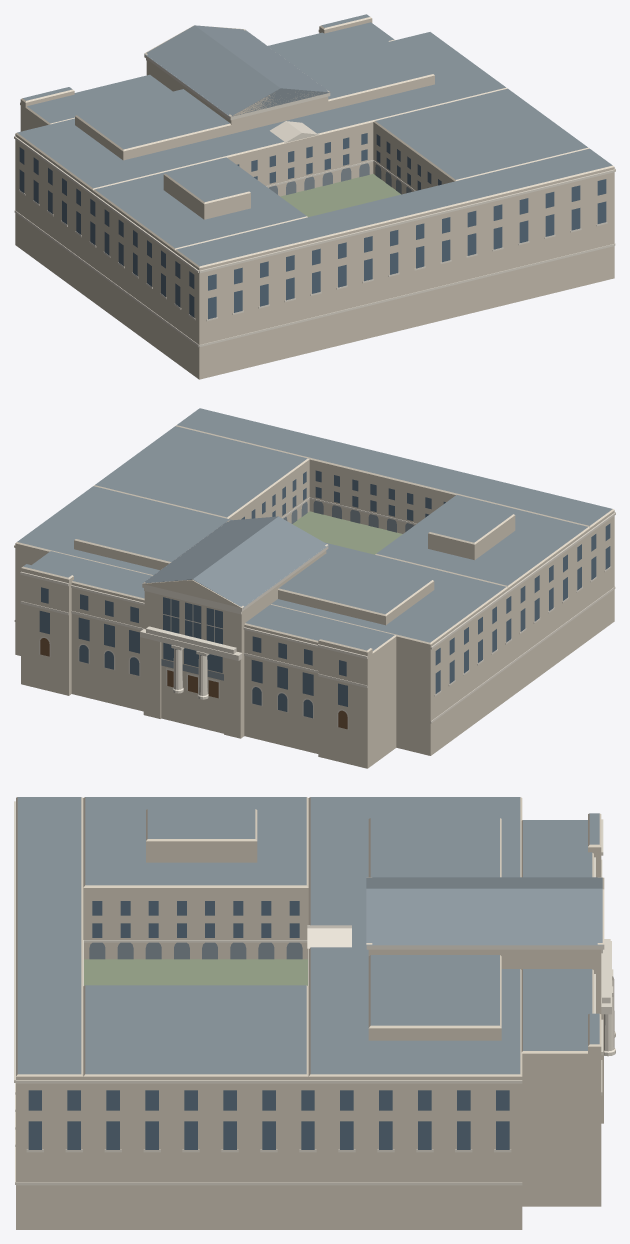
Rendered from nash-public-library.glb.
3 views of the same model, one above another, from view 1: azimuth 30°, elevation 25°; view 2: azimuth 150°, elevation 25°; view 3: azimuth 270°, elevation 25° (orthographic). The views are drawn at different scales.
Parts seen in each view (by area): view 1: Nashville Public Library; view 2: Nashville Public Library; view 3: Nashville Public Library.
Boxes of the visible parts, x1,y1,x2,y2 form: Nashville Public Library: (14,14,615,379); Nashville Public Library: (14,408,615,768); Nashville Public Library: (14,797,615,1229).
Size of the model in its own units: 107 by 36.1 by 97.25.
